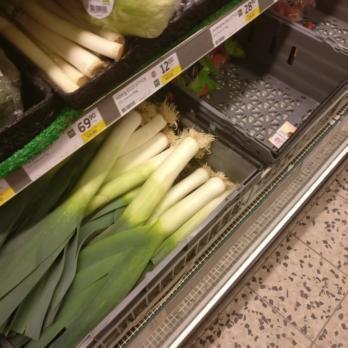Leek Leaves: (0, 203, 134, 302), (76, 145, 219, 214), (139, 102, 203, 153)
